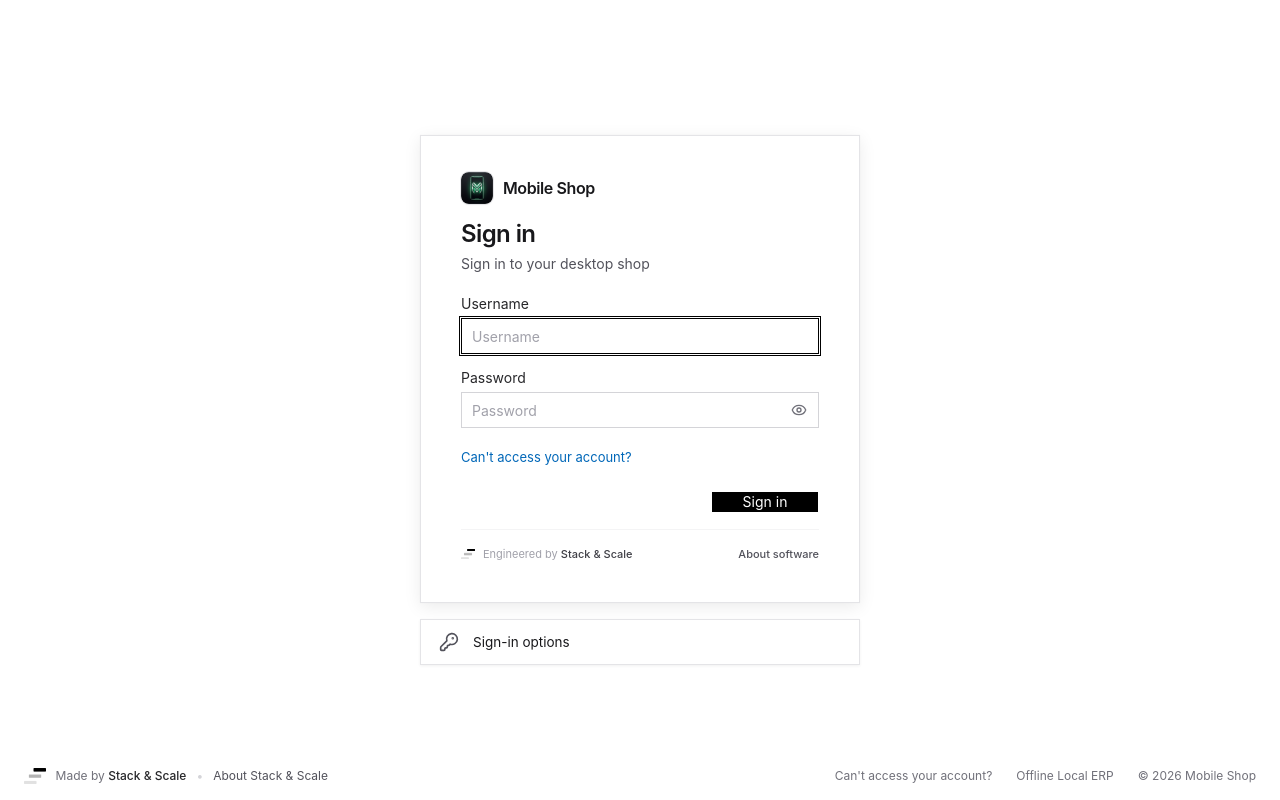
Test: desktop interface › signs in and displays dashboard metrics
The image size is (1280, 800).
Expected: the text "Sign in to your desktop shop" is shown, [461, 255, 650, 272]
Type "owner" into the field labelled "Username".
click(640, 336); type("owner")  # box [461, 318, 819, 354]
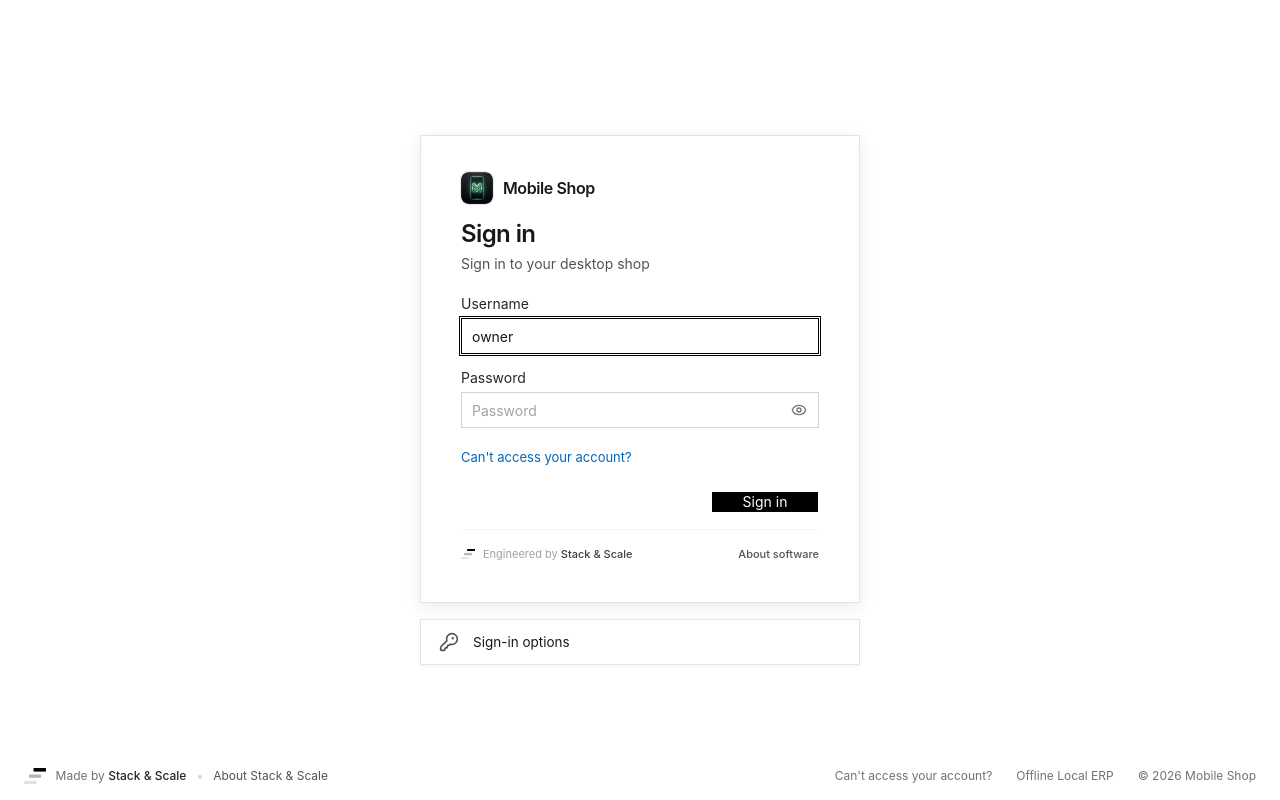
Type "StrongPass123" into the password field labelled "Password".
click(640, 410); type("StrongPass123")  # box [461, 392, 819, 428]
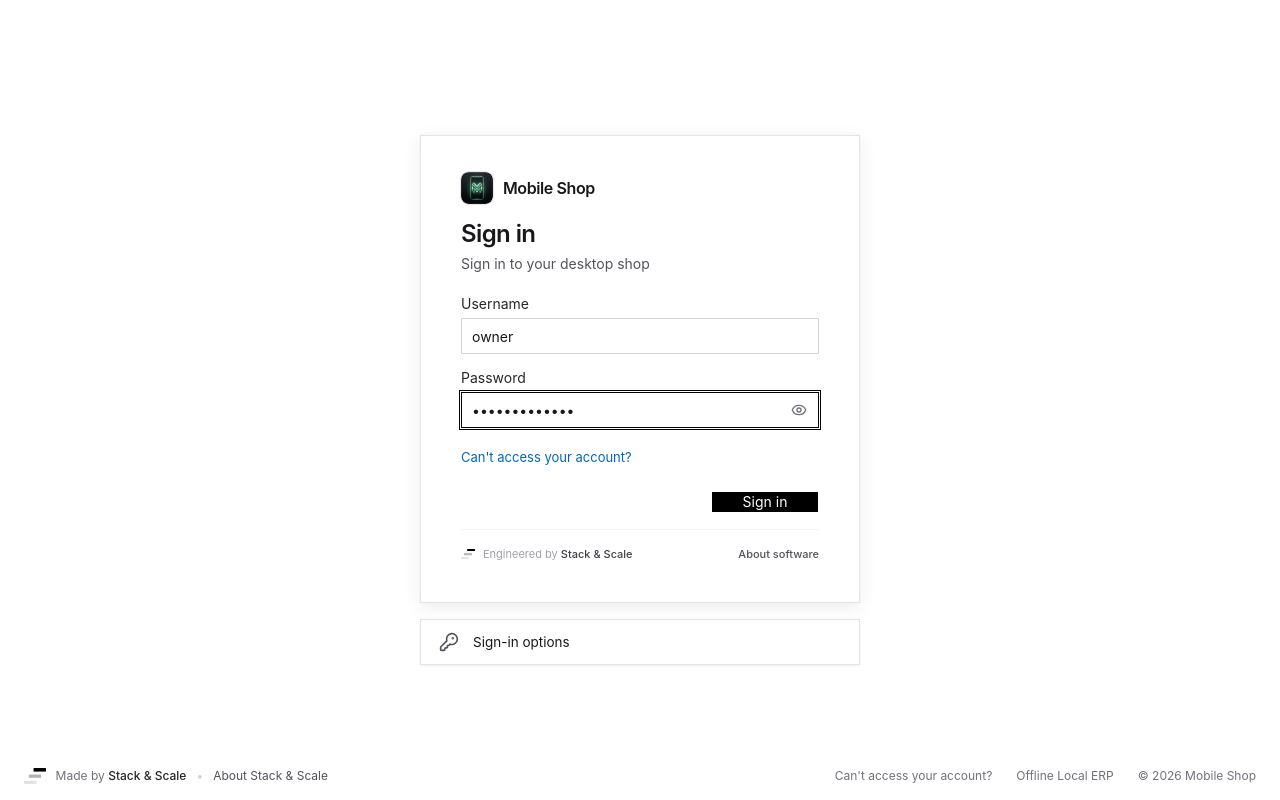
Click the button "Sign in".
click(765, 502)  # box [711, 491, 819, 513]
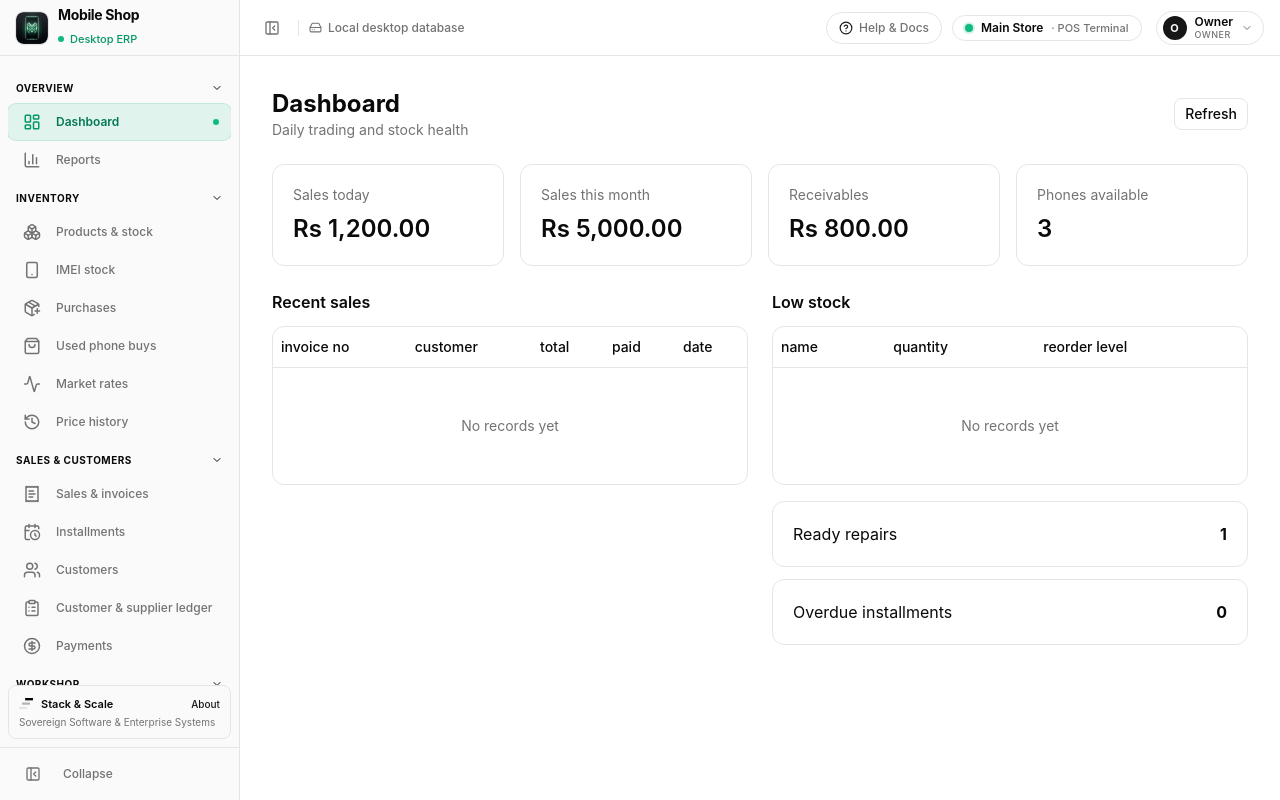
Expected: the text "Sales today" is shown, [293, 186, 370, 203]
Expected: the text "Rs 1,200.00" is shown, [293, 214, 430, 243]
